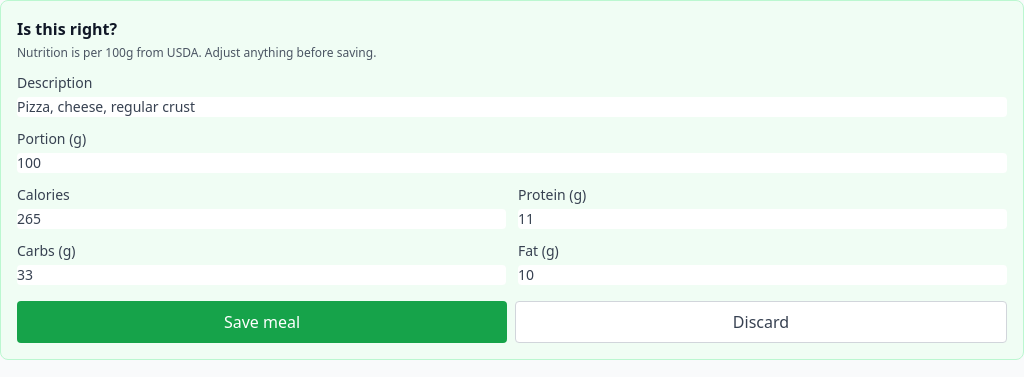
Test: MealReview › recalculates every macro when the portion changes, scaling from the original basis
Replace the text in the number field labelled "Portion (g)" with "250" at [512, 163], box [17, 153, 1007, 173]
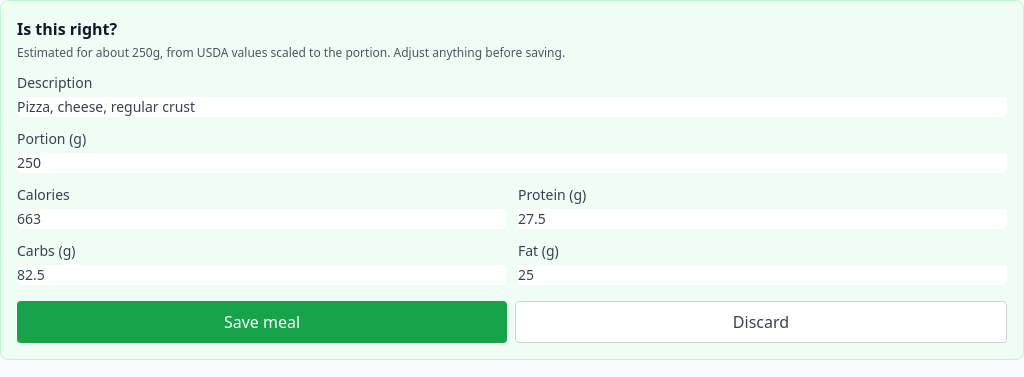
Result: the number field labelled "Calories" holds "663" at [17, 209, 506, 229]
Result: the number field labelled "Protein (g)" holds "27.5" at [518, 209, 1007, 229]
Result: the number field labelled "Carbs (g)" holds "82.5" at [17, 265, 506, 285]
